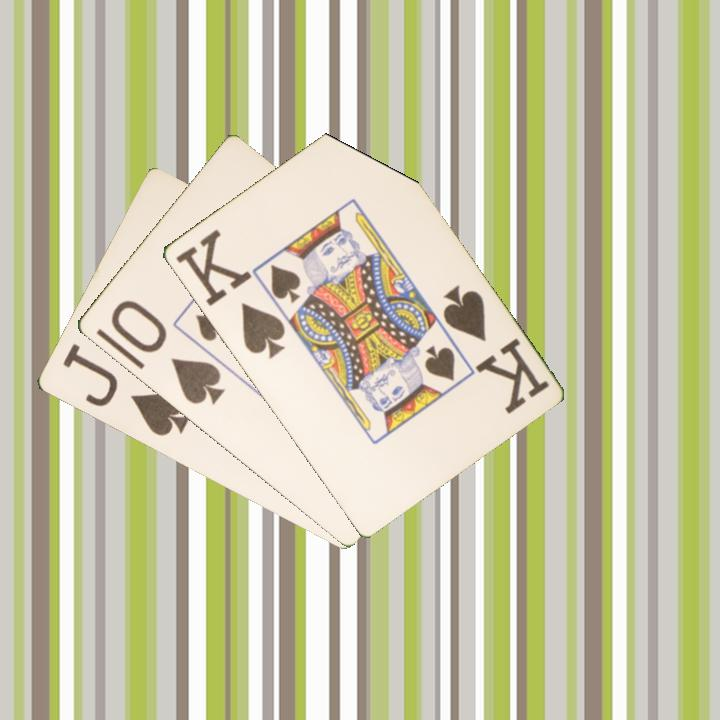10s: (106, 296, 227, 408)
Js: (58, 340, 193, 440)
Ks: (171, 226, 288, 363), (438, 281, 552, 417)
